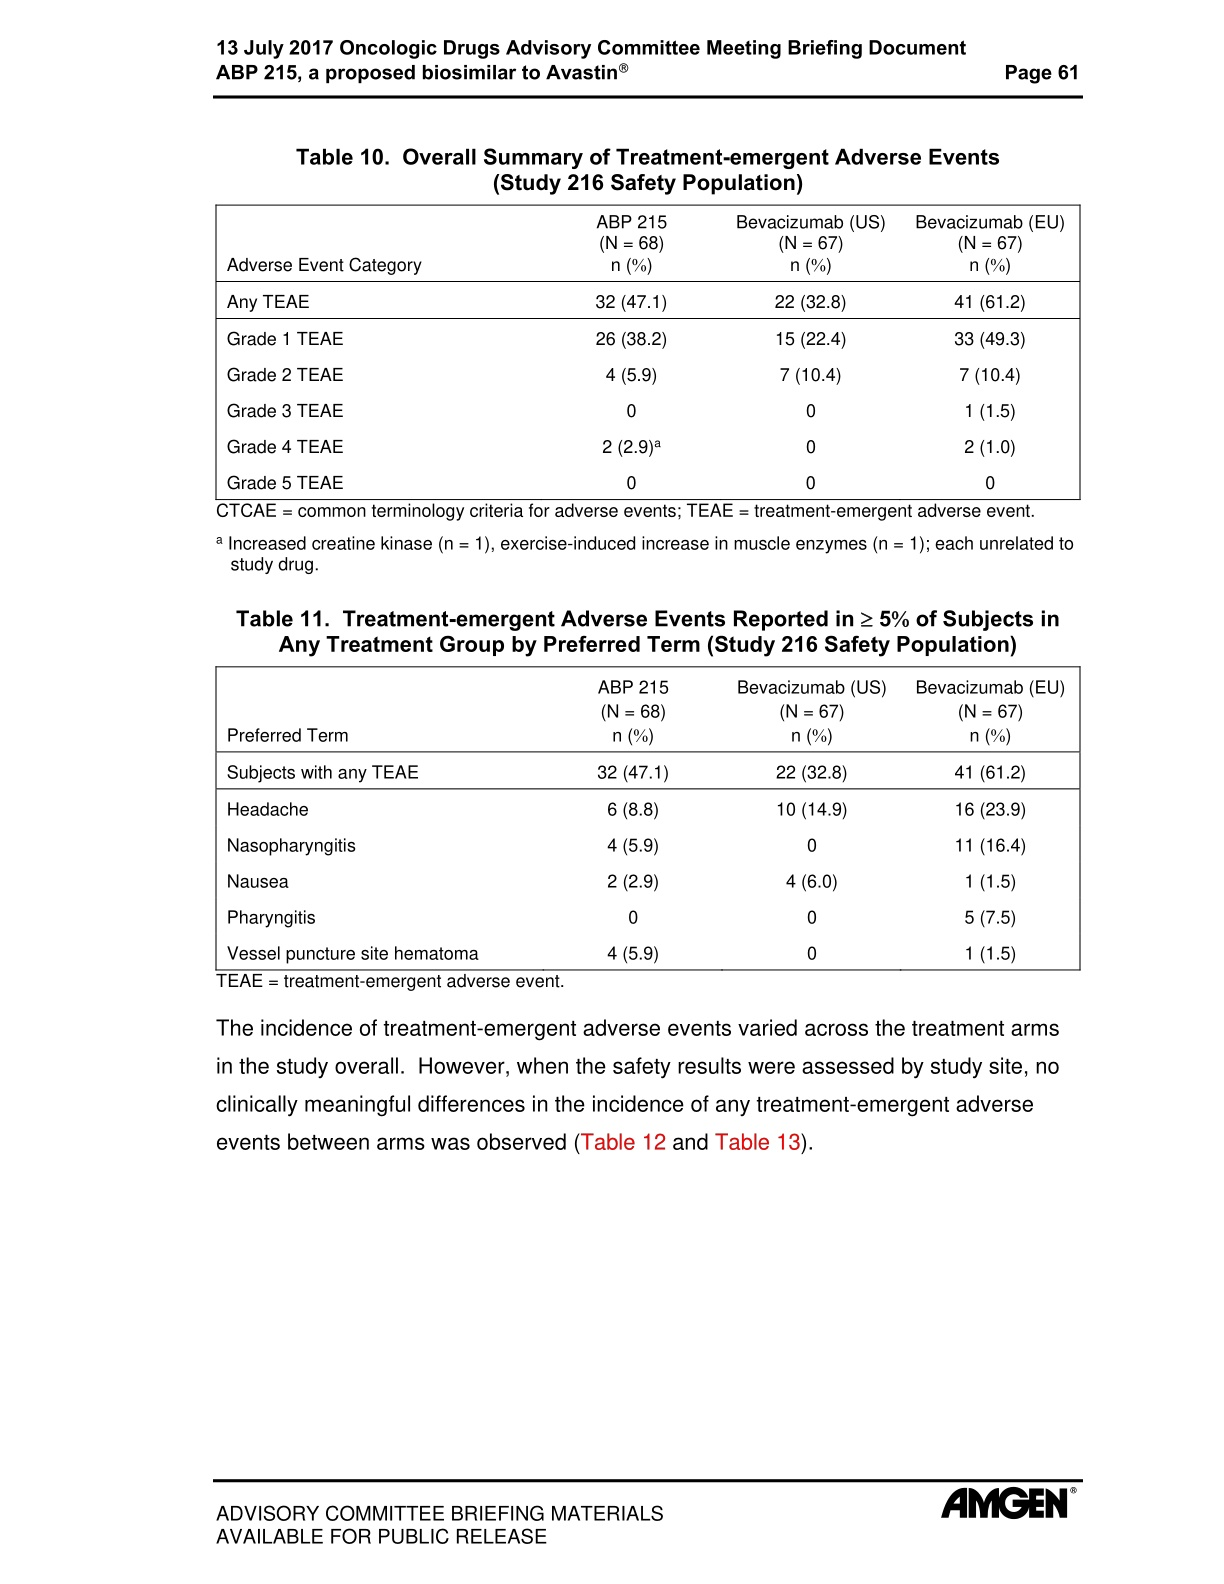partial_lined: (212, 662, 1083, 973), (213, 203, 1081, 501)
